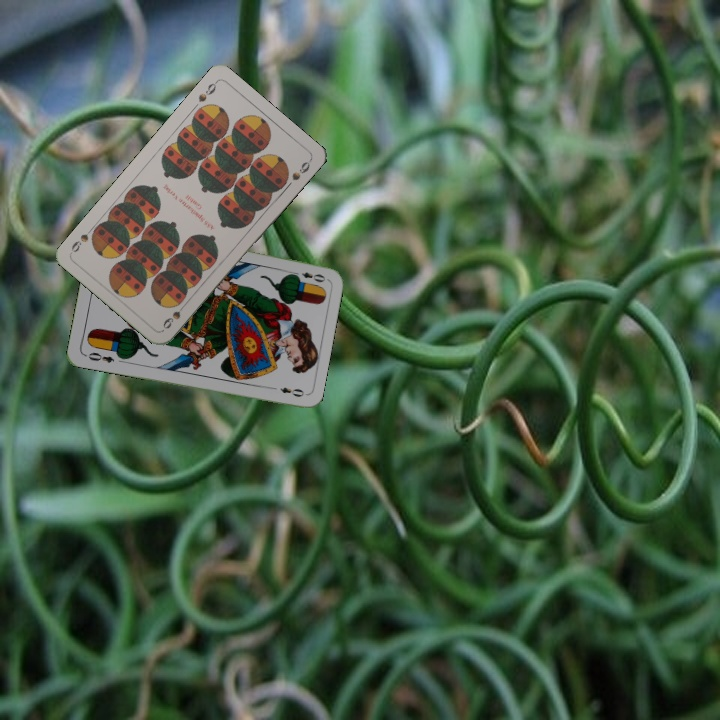EO: (288, 267, 328, 285), (81, 348, 117, 365)
S9: (159, 299, 189, 332), (194, 77, 220, 105)
